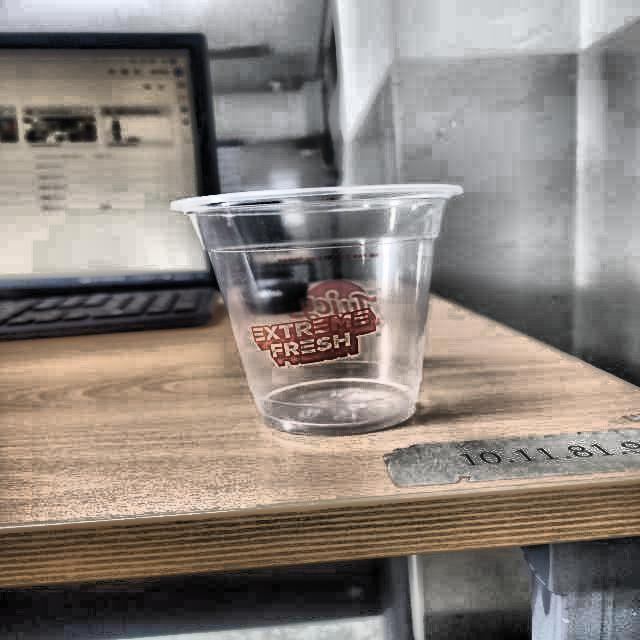plastic cup: (168, 180, 468, 434)
